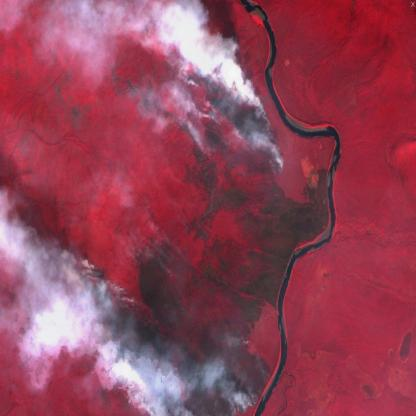fire: (73, 58, 285, 416)
